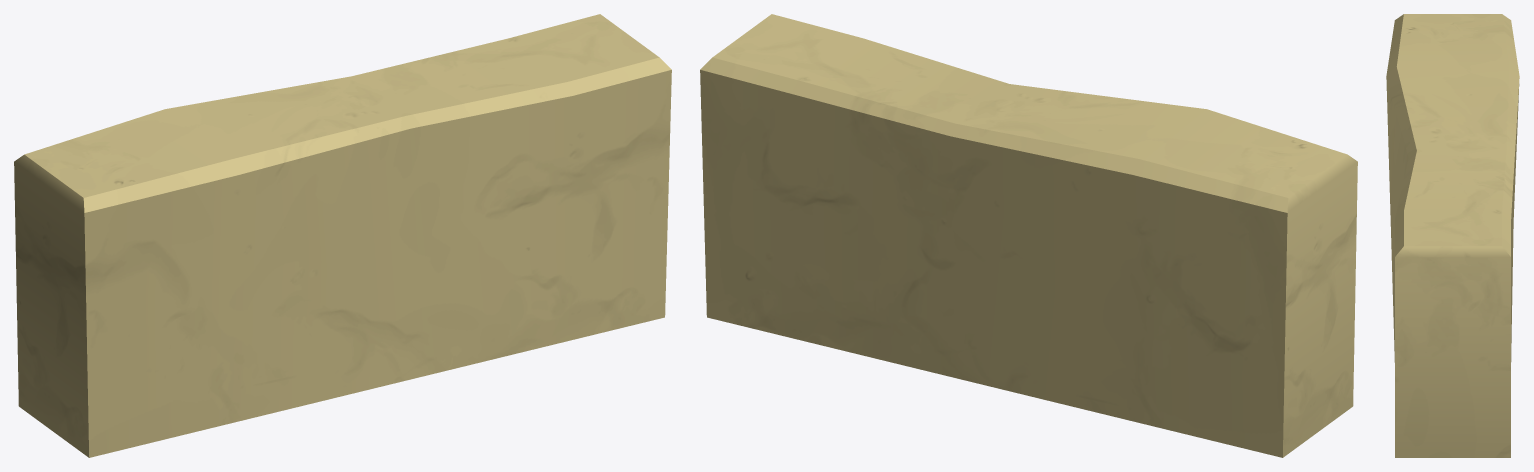
The model's file is V_Wall_Small.FBX.
3 views of the same model, side by side, from view 1: azimuth 30°, elevation 25°; view 2: azimuth 150°, elevation 25°; view 3: azimuth 270°, elevation 25° (orthographic). The views are drawn at different scales.
Parts seen in each view (by area): view 1: Box002; view 2: Box002; view 3: Box002.
Boxes of the visible parts, x1,y1,x2,y2 form: Box002: (14, 14, 671, 457); Box002: (700, 14, 1357, 457); Box002: (1386, 14, 1519, 457).
Size of the model in its own units: 241 by 103 by 57.33.
